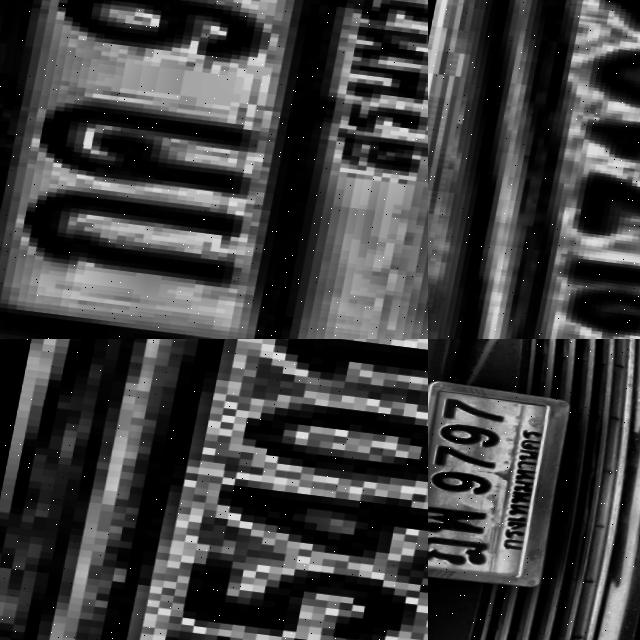license-plate: (0, 0, 428, 339), (0, 339, 428, 640), (428, 0, 640, 339), (428, 373, 578, 592)
